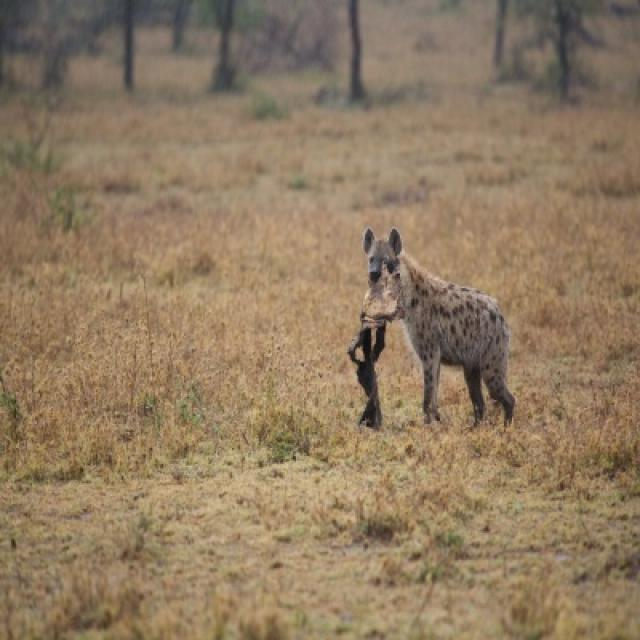hyena: (362, 232, 517, 427)
